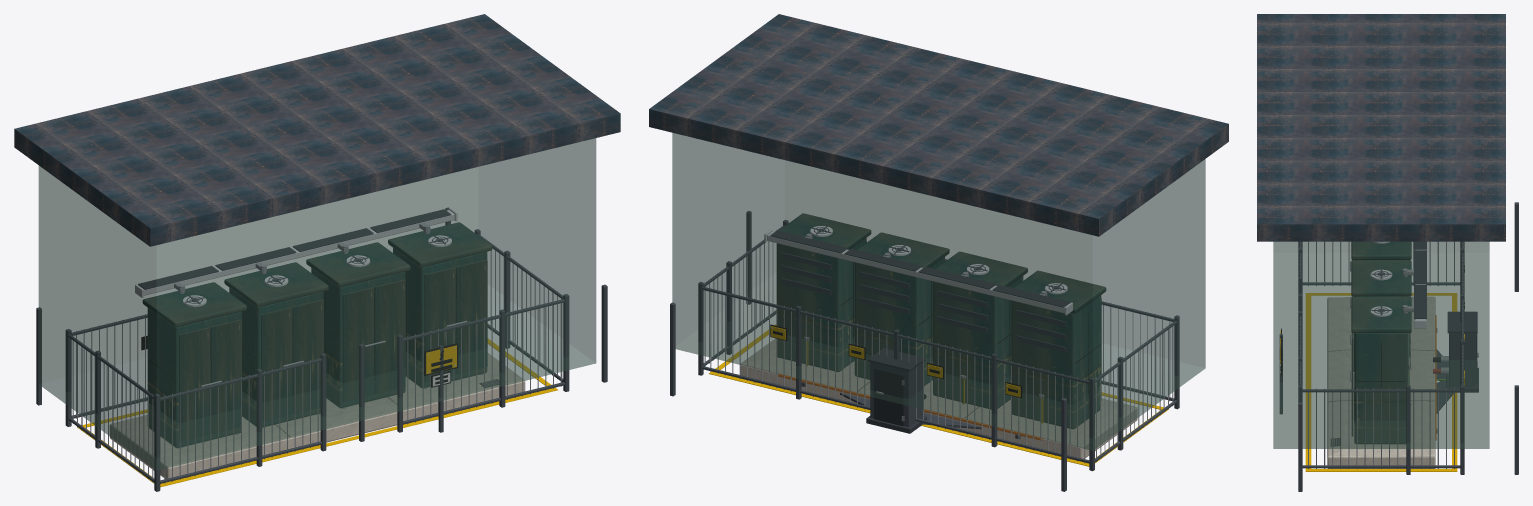
File: storage.glb
3 views of the same model, side by side, from view 1: azimuth 30°, elevation 25°; view 2: azimuth 150°, elevation 25°; view 3: azimuth 270°, elevation 25° (orthographic). The views are drawn at different scales.
Parts seen in each view (by area): view 1: Storage_Shell_ASSEMBLY_ADDED, Storage_Roof_ASSEMBLY_ADDED, Storage_Base_Platform, Fence_VerticalBars, Fence_Posts, Fence_Rails, Battery_Cabinet_1, Battery1_Door_L, Battery1_Door_R, PCS_Door_R, Battery3_Door_R, Battery3_Door_L (+12 smaller); view 2: Storage_Shell_ASSEMBLY_ADDED, Storage_Roof_ASSEMBLY_ADDED, Fence_VerticalBars, Battery_Cabinet_1, Storage_Base_Platform, Battery_Cabinet_2, PCS_Cabinet, Battery_Cabinet_3, Fence_Posts, Fence_Rails, CableTray, Battery_Cabinet_1_TopCap (+8 smaller); view 3: Storage_Roof_ASSEMBLY_ADDED, Storage_Shell_ASSEMBLY_ADDED, Storage_Base_Platform, PCS_Cabinet, Fence_Posts, Fence_VerticalBars, Fence_Rails, Battery_Cabinet_3_TopCap, PCS_Cabinet_TopCap, JunctionBox, Battery_Cabinet_2_TopCap, Warning_Line_South (+5 smaller).
Part boxes in pixels (x1,y1,x2,y2): Storage_Shell_ASSEMBLY_ADDED: (38, 138, 596, 470); Storage_Roof_ASSEMBLY_ADDED: (14, 14, 620, 246); Storage_Base_Platform: (109, 353, 525, 478); Fence_VerticalBars: (72, 236, 562, 483); Fence_Posts: (36, 207, 607, 491); Fence_Rails: (68, 235, 564, 483); Battery_Cabinet_1: (147, 308, 241, 447); Battery1_Door_L: (179, 327, 210, 441); Battery1_Door_R: (210, 319, 241, 433); PCS_Door_R: (456, 259, 487, 373); Battery3_Door_R: (374, 279, 405, 393); Battery3_Door_L: (342, 287, 373, 401); Storage_Shell_ASSEMBLY_ADDED: (672, 133, 1205, 450); Storage_Roof_ASSEMBLY_ADDED: (649, 14, 1228, 236); Fence_VerticalBars: (704, 226, 1173, 462); Battery_Cabinet_1: (1011, 295, 1101, 428); Storage_Base_Platform: (740, 338, 1137, 458); Battery_Cabinet_2: (933, 276, 1023, 409); PCS_Cabinet: (776, 238, 866, 371); Battery_Cabinet_3: (854, 257, 944, 385); Fence_Posts: (670, 211, 1179, 491); Fence_Rails: (702, 225, 1176, 463); CableTray: (767, 231, 1068, 312); Battery_Cabinet_1_TopCap: (1014, 270, 1106, 313); Storage_Roof_ASSEMBLY_ADDED: (1257, 14, 1505, 241); Storage_Shell_ASSEMBLY_ADDED: (1273, 241, 1489, 448); Storage_Base_Platform: (1327, 297, 1435, 468); PCS_Cabinet: (1354, 333, 1408, 443); Fence_Posts: (1298, 202, 1518, 491); Fence_VerticalBars: (1299, 241, 1463, 468); Fence_Rails: (1299, 241, 1463, 468); Battery_Cabinet_3_TopCap: (1351, 260, 1411, 296); PCS_Cabinet_TopCap: (1351, 297, 1411, 332); JunctionBox: (1449, 333, 1476, 386); Battery_Cabinet_2_TopCap: (1351, 241, 1411, 259); Warning_Line_South: (1305, 293, 1311, 471).
Size of the model in its own units: 9.39 by 5.52 by 4.84.
Materials: 39 (7 with a texture image).
